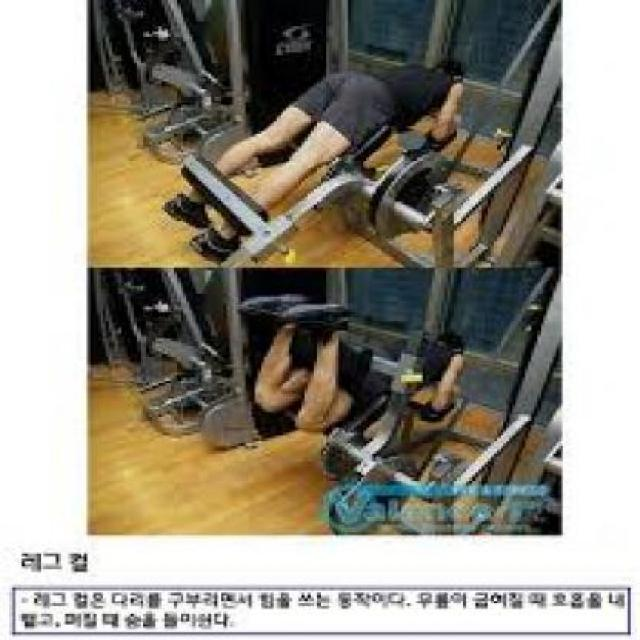reg curl machine: (180, 275, 565, 528), (163, 43, 537, 268)
